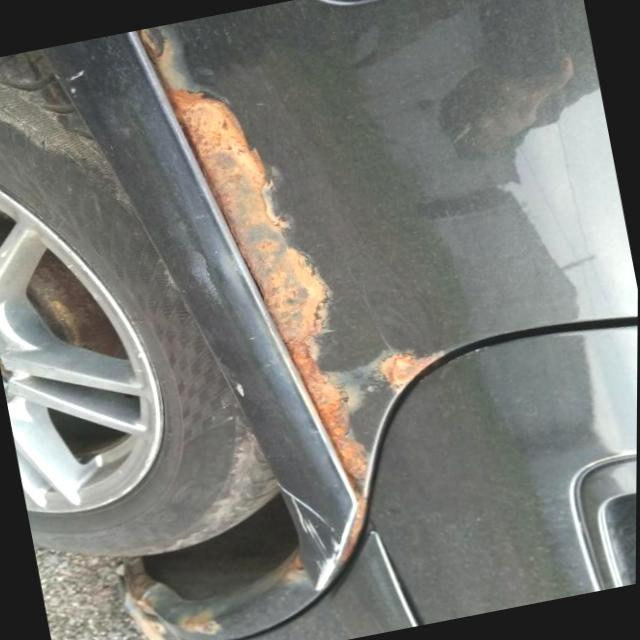Rust: (132, 25, 370, 566), (22, 248, 125, 353), (122, 568, 179, 640), (378, 345, 455, 395), (180, 604, 232, 633), (287, 540, 307, 570)
Scratch: (276, 477, 343, 592), (232, 380, 243, 400)
